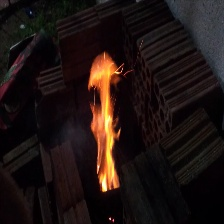fire: (80, 48, 133, 196)
